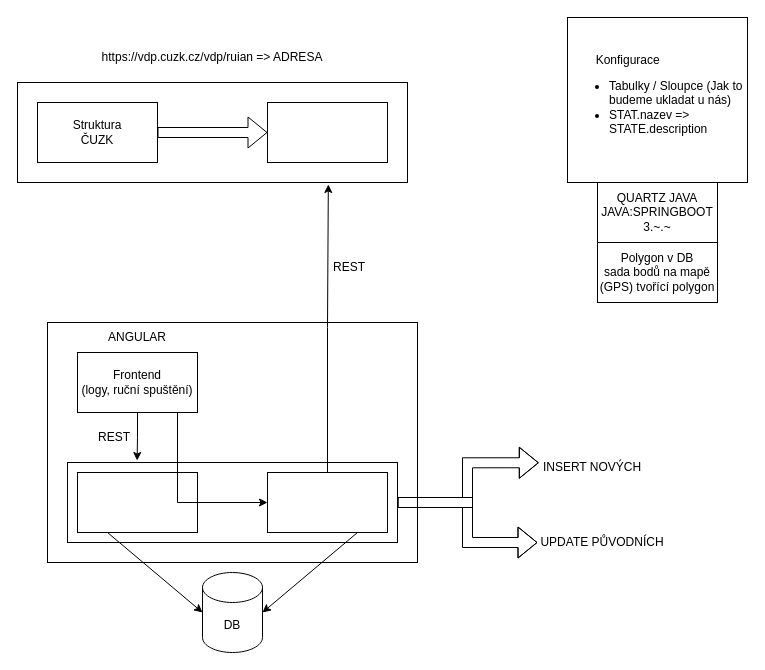
Some shapes in this 765 by 670 pixel diagram are drawn without their labels. Each missing label, with the centre of its shape:
Backend [1]: the point at 327,502
Backend [2] REST Služby: the point at 137,502
St ruktura: the point at 327,132
